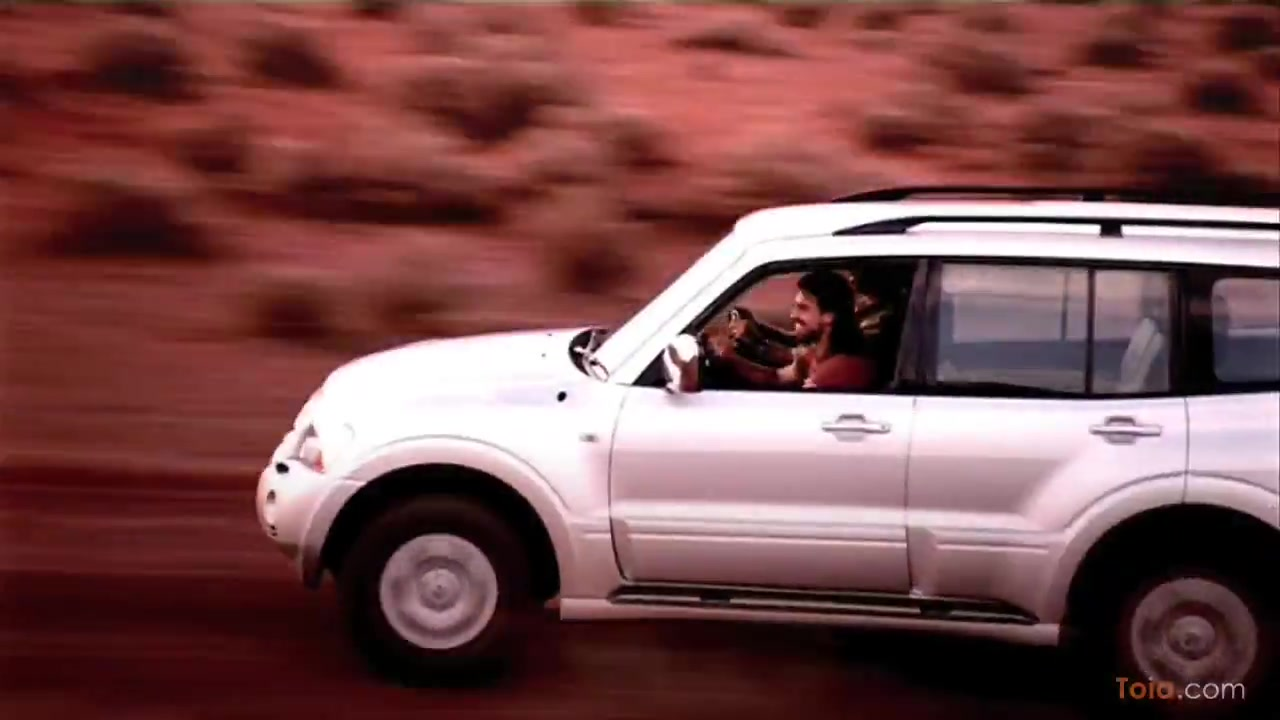car: (256, 186, 1280, 713)
